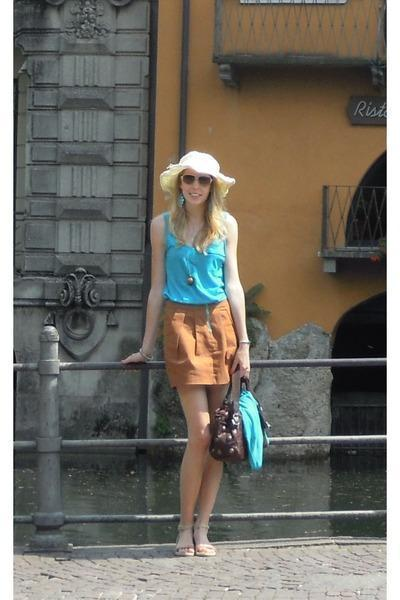bag: (219, 389, 265, 466)
hat: (204, 156, 234, 182)
shirt: (164, 235, 227, 303)
shoe: (168, 525, 236, 557)
skirt: (154, 296, 245, 387)
sunglass: (184, 168, 217, 195)
